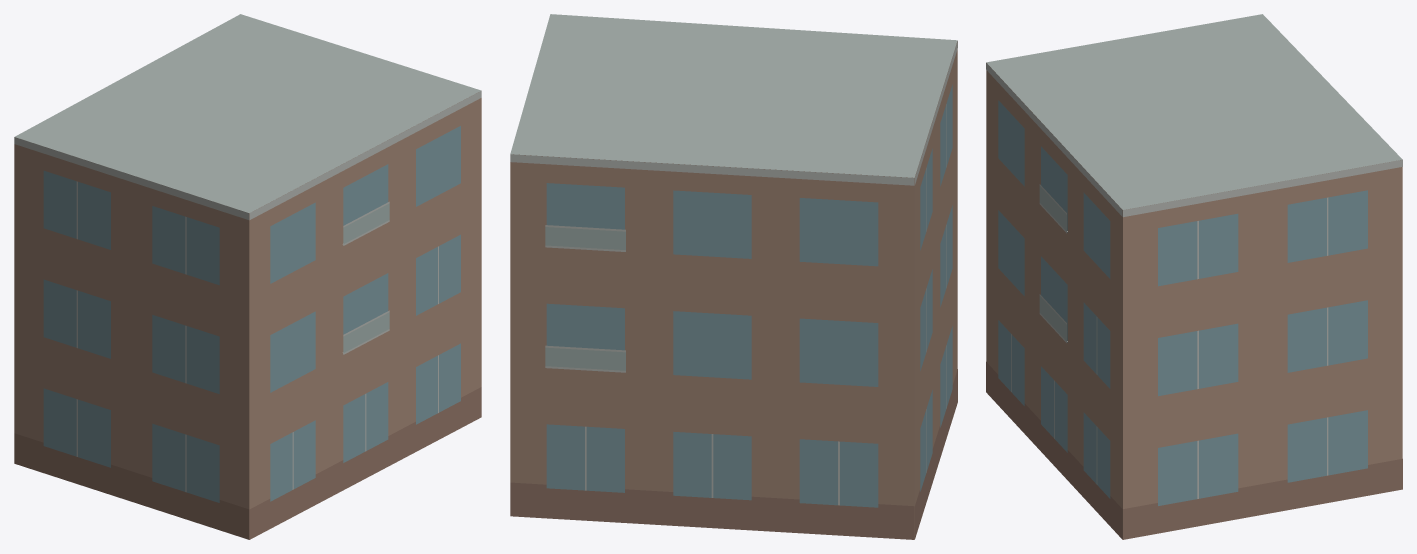
The model's file is survey-upis-32899416.glb.
3 renders of one model, left to right at view 1: azimuth 30°, elevation 25°; view 2: azimuth 150°, elevation 25°; view 3: azimuth 270°, elevation 25°, orthographic. The views are drawn at different scales.
Parts seen in each view (by area): view 1: survey-upis-32899416.tmp; view 2: survey-upis-32899416.tmp; view 3: survey-upis-32899416.tmp.
Boxes of the visible parts, x1=… form: survey-upis-32899416.tmp: x1=14, y1=14, x2=481, y2=539; survey-upis-32899416.tmp: x1=510, y1=14, x2=957, y2=539; survey-upis-32899416.tmp: x1=986, y1=14, x2=1402, y2=539.
Bounding box in the file's own units: 14.29 × 11.2 × 12.83.
